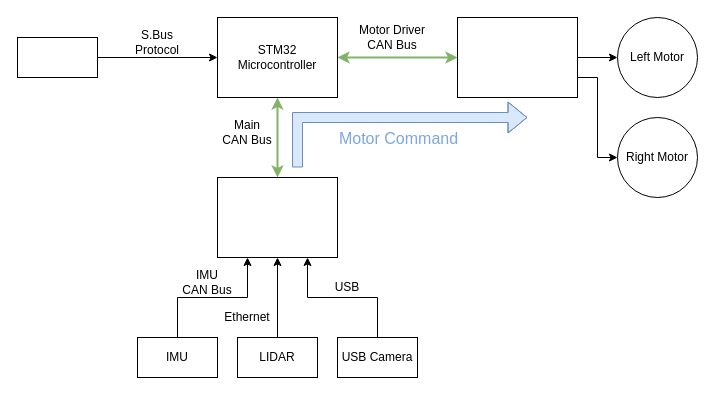
Image size: 715x395. Some labels were removed from this diagram. Each missing label, with the box of its shape:
Motor Driver: (456, 16, 578, 98)
PC: (216, 176, 338, 258)
RF Receiver: (16, 36, 98, 78)
